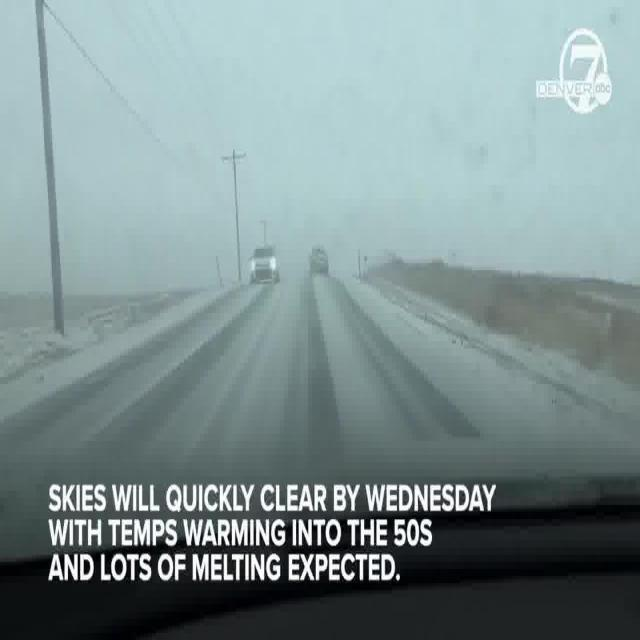Car: (248, 245, 280, 282), (308, 244, 330, 278)
